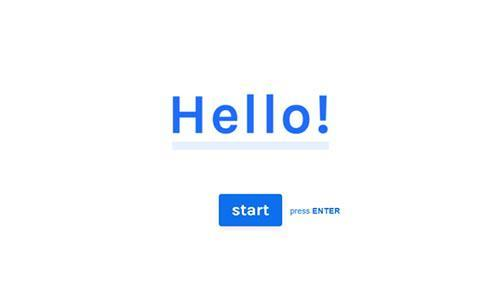button: (219, 195, 284, 227)
label: (172, 94, 330, 136), (289, 208, 343, 217)
